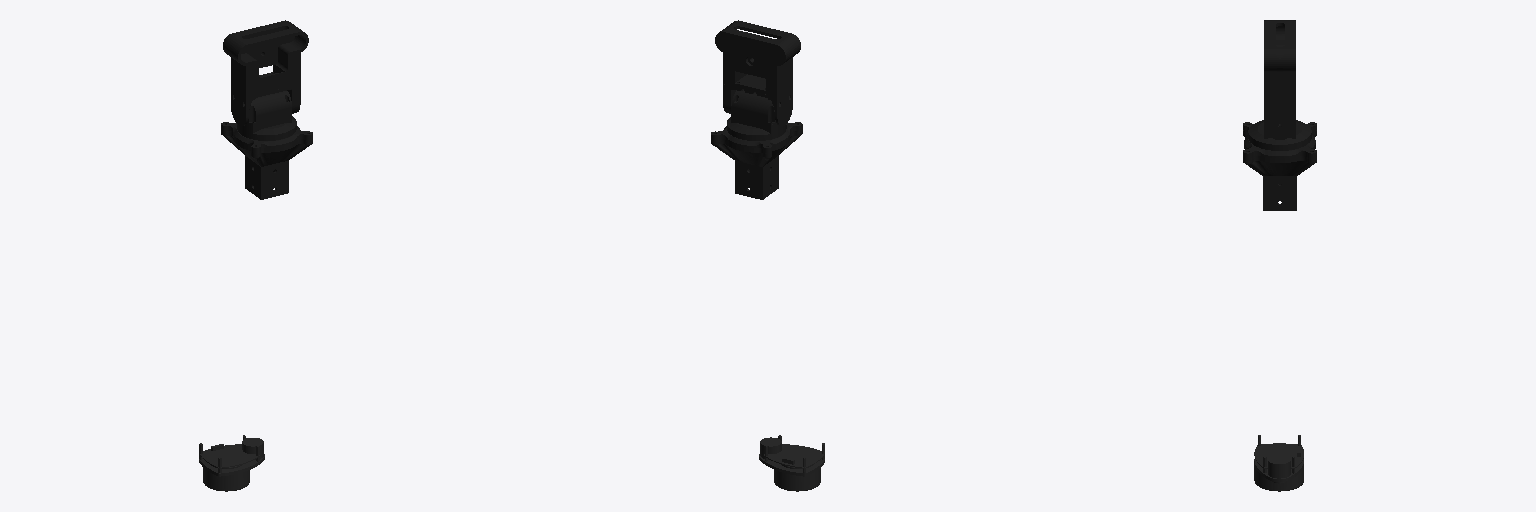
The robot description file, URDF, robot "cart":
<?xml version="1.0"?>
<robot name="cart" xmlns:xacro="http://ros.org/wiki/xacro">

  <!-- PI=3.1416 PI/2=1.5708 -->

  <link name="base_link">
    <visual>
      <origin rpy="0 0 0" xyz="0 0 0"/>
      <geometry>
        <mesh filename="package://blindbuy_description/meshes/cart.dae"/>
      </geometry>
    </visual>
  </link>

  <joint name="laser_joint" type="fixed">
    <parent link="base_link" />
    <child link="laser" />
    <!-- <origin rpy="0 0 0" xyz="0.3 0 0.41" /> -->
    <origin rpy="3.1416 0 0" xyz="0.3 0 0.41" />
  </joint>

  <link name="laser">
    <visual>
      <origin rpy="0 0 0" xyz="0 0 0"/>
      <geometry>
        <mesh filename="package://blindbuy_description/meshes/rplidar.dae" scale="0.01 0.01 0.01"/>
      </geometry>
    </visual>
  </link>

  <link name="al_profile"/>

  <joint name="al_profile_joint" type="fixed">
    <parent link="base_link" />
    <child link="al_profile" />
    <origin xyz="0.37 0 0.45" rpy="0 0 0"/>
  </joint>

  <!-- PTZ frames -->
  <link name="ptz_base">
    <visual>
      <origin xyz="0 0 0" rpy="0 0 0"/>
      <geometry>
        <mesh filename="package://blindbuy_description/meshes/ptz_base.dae" scale="0.001 0.001 0.001"/>
      </geometry>
    </visual>
  </link>

  <joint name="ptz_base_joint" type="fixed">
    <parent link="al_profile" />
    <child link="ptz_base" />
    <origin xyz="0 0 0.5" rpy="0 0 0"/>
  </joint>

  <link name="ptz_body">
    <visual>
      <origin xyz="0 0 -0.013" rpy="0 0 0"/>
      <geometry>
        <mesh filename="package://blindbuy_description/meshes/ptz_body.dae" scale="0.001 0.001 0.001"/>
      </geometry>
    </visual>
  </link>

  <joint name="ptz_pan_joint" type="revolute">
    <parent link="ptz_base"/>
    <child link="ptz_body"/>
    <origin xyz="0 0 0.013" rpy="0 0 0"/>
    <limit lower="-3.1416" upper="3.1416" effort="10" velocity="3"/>
    <axis xyz="0 0 1"/>
  </joint>

  <link name="ptz_head">
    <visual>
      <origin xyz="0 0 -0.045" rpy="0 0 0"/>
      <geometry>
        <mesh filename="package://blindbuy_description/meshes/ptz_head.dae" scale="0.001 0.001 0.001"/>
      </geometry>
    </visual>
  </link>

  <joint name="ptz_tilt_joint" type="revolute">
    <parent link="ptz_body"/>
    <child link="ptz_head"/>
    <origin xyz="0 0 0.035" rpy="0 0 0"/>
    <limit lower="-1.5708" upper="1.5708" effort="10" velocity="3"/>
    <axis xyz="1 0 0"/>
  </joint>

  <!-- OAK-D frames -->
  <joint name="oak-d_joint" type="fixed">
    <parent link="ptz_head" />
    <child link="oak-d_frame" />
    <origin xyz="0 0 0.1" rpy="0 0 -1.5708" />
  </joint>

  <link name="oak-d_frame"/>


  <link name="oak-d_camera_center">
      <visual>
          <origin xyz="0 0 0" rpy="0 0 0"/>
          <geometry>
              <mesh filename="package://blindbuy_description/meshes/BW1098OAK.dae" />
          </geometry>
          <material name="mat">
              <color rgba="0.8 0.8 0.8 1"/>
          </material>
      </visual>
  </link>

  <joint name="oak-d_center_joint" type="fixed">
      <parent link="oak-d_frame"/>
      <child link="oak-d_camera_center"/>
      <origin xyz="0.0 0.0 0.0" rpy="1.5708 0.0 1.5708" />
  </joint>

  <link name="oak-d_rgb_camera_frame" />
  
  <joint name="oak-d_rgb_camera_joint" type="fixed">
      <parent link="oak-d_frame"/>
      <child link="oak-d_rgb_camera_frame"/>
      <origin xyz="0 0 0" rpy="0 0 0" />
  </joint>

  <link name="oak-d_rgb_camera_optical_frame"/>
  
  <joint name="oak-d_rgb_camera_optical_joint" type="fixed">
      <origin xyz="0 0 0" rpy="-1.5708 0.0 -1.5708"/>
      <parent link="oak-d_rgb_camera_frame"/>
      <child link="oak-d_rgb_camera_optical_frame"/>
  </joint>

  <link name="oak-d_left_camera_frame" />
  
  <joint name="oak-d_left_camera_joint" type="fixed">
      <parent link="oak-d_frame"/>
      <child link="oak-d_left_camera_frame"/>
      <origin xyz="0 0.0375 0" rpy="0 0 0" />
  </joint>

  <link name="oak-d_left_camera_optical_frame"/>
  
  <joint name="oak-d_left_camera_optical_joint" type="fixed">
      <origin xyz="0 0 0" rpy="-1.5708 0.0 -1.5708"/>
      <parent link="oak-d_left_camera_frame"/>
      <child link="oak-d_left_camera_optical_frame"/>
  </joint>

  <link name="oak-d_right_camera_frame" />
  
  <joint name="oak-d_right_camera_joint" type="fixed">
      <parent link="oak-d_frame"/>
      <child link="oak-d_right_camera_frame"/>
      <origin xyz="0 -0.0375 0" rpy="0 0 0" />
  </joint>

  <link name="oak-d_right_camera_optical_frame"/>
  
  <joint name="oak-d_right_camera_optical_joint" type="fixed">
      <origin xyz="0 0 0" rpy="-1.5708 0.0 -1.5708"/>
      <parent link="oak-d_right_camera_frame"/>
      <child link="oak-d_right_camera_optical_frame"/>
  </joint> 

</robot>

--- Render facts (derived) ---
Views: 3 orthographic renders of the robot side by side, from view 1: azimuth 30°, elevation 25°; view 2: azimuth 150°, elevation 25°; view 3: azimuth 270°, elevation 25°.
Robot: cart — 14 links, 13 joints (2 revolute, 11 fixed); root link base_link; default pose: all joints at 0.
Links seen in each view (by area): view 1: ptz_head, ptz_base, laser, ptz_body; view 2: ptz_head, ptz_base, laser, ptz_body; view 3: ptz_head, ptz_base, laser, ptz_body.
Boxes of the visible links, box(x1,y1,x2,y2) form: ptz_head: box(223, 20, 308, 125); ptz_base: box(221, 122, 312, 199); laser: box(199, 435, 264, 491); ptz_body: box(237, 91, 296, 140); ptz_head: box(715, 20, 800, 125); ptz_base: box(711, 122, 802, 199); laser: box(759, 435, 824, 491); ptz_body: box(727, 90, 786, 140); ptz_head: box(1264, 20, 1295, 139); ptz_base: box(1243, 122, 1316, 210); laser: box(1254, 435, 1303, 491); ptz_body: box(1248, 120, 1311, 150).
Bounding box of the posed robot: 0.1636 × 0.104 × 0.7224 m (x, y, z).
Meshes: 6 distinct files referenced, 4 mesh visuals loaded (4 Collada DAE); not drawn: 2 (reference not matched to a file when rendering).
